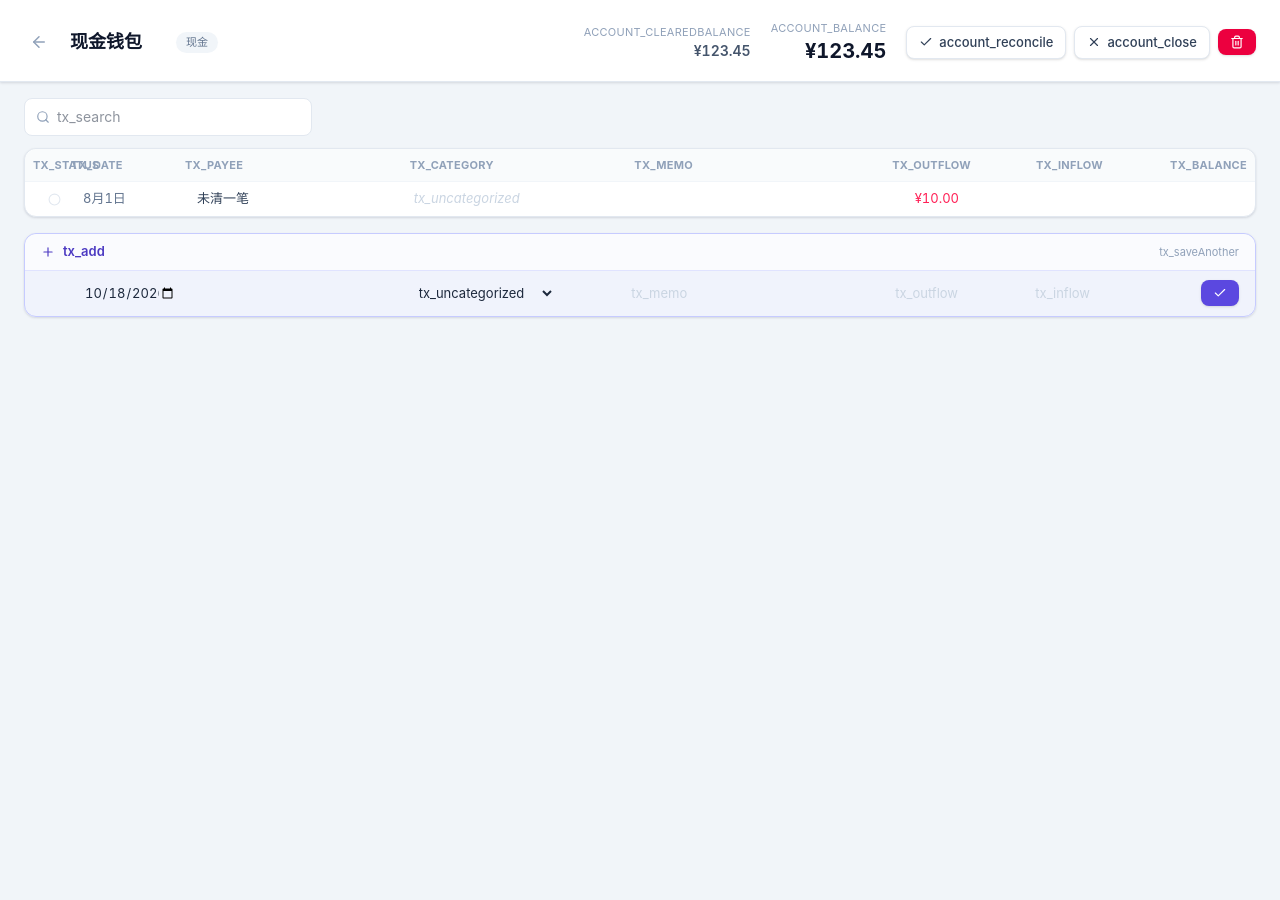
it: AccountDetailPage 对账弹窗 › 点击对账按钮打开弹窗，实际余额默认为当前余额
The width and height of the screenshot is (1280, 900).
Click the button "account_reconcile": [986, 42] box [906,26,1066,59]
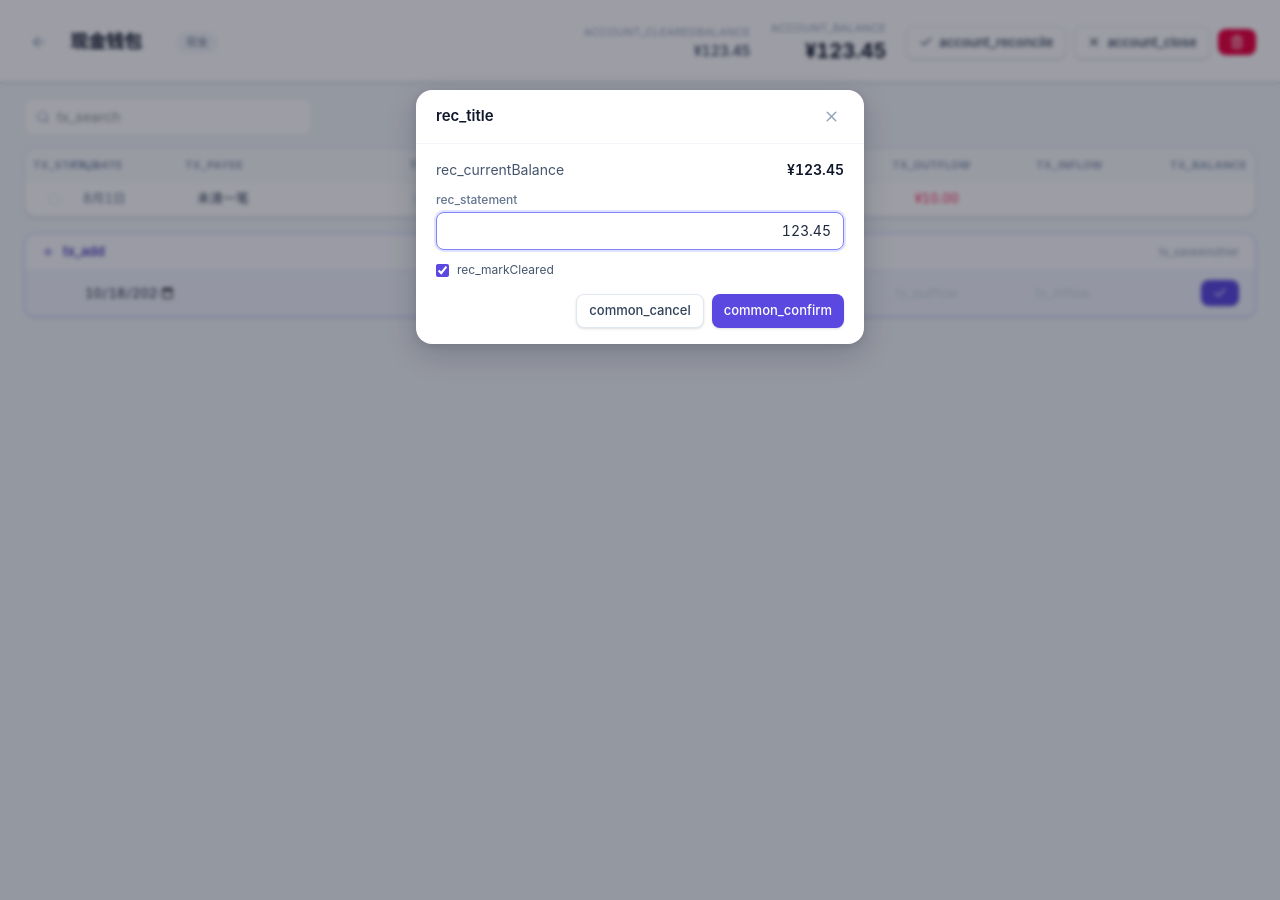
Check: the field labelled "rec_statement" holds "123.45", box [436,212,844,250]
